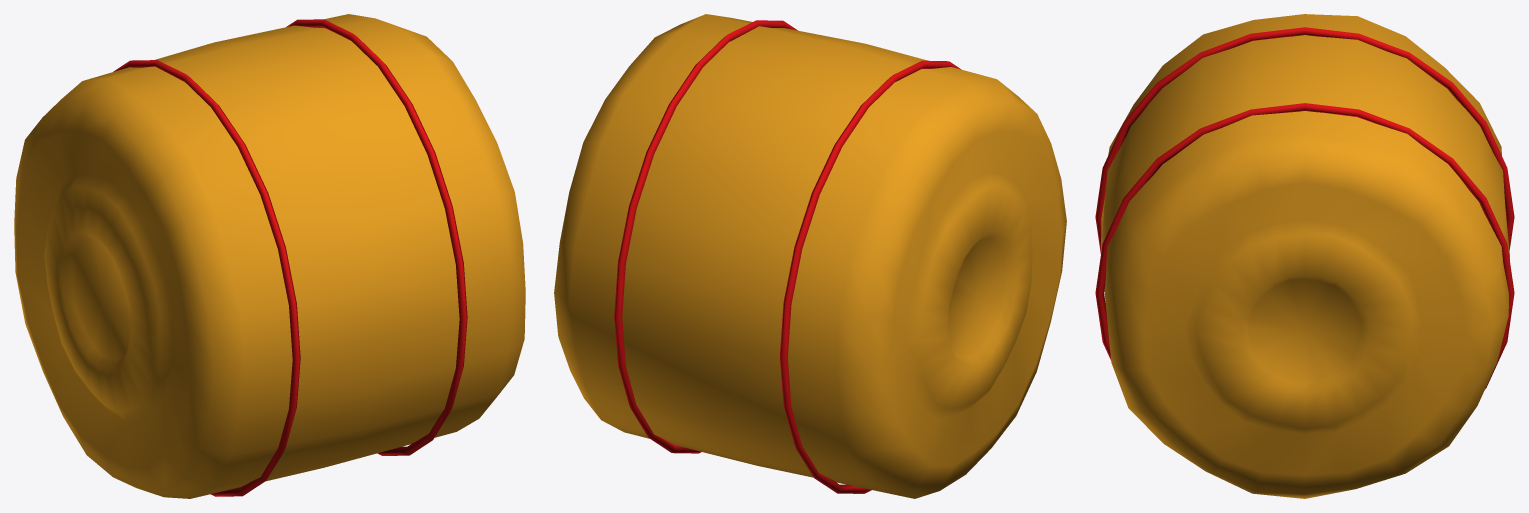
The model's file is HayBale.fbx.
3 views of the same model, side by side, from view 1: azimuth 30°, elevation 25°; view 2: azimuth 150°, elevation 25°; view 3: azimuth 270°, elevation 25° (orthographic). The views are drawn at different scales.
Parts seen in each view (by area): view 1: HayBale; view 2: HayBale; view 3: HayBale.
Boxes of the visible parts, left/top/right/bottom form: HayBale: left=14, top=14, right=525, bottom=498; HayBale: left=554, top=14, right=1066, bottom=498; HayBale: left=1095, top=14, right=1514, bottom=498.
Size of the model in its own units: 1.04 by 1.17 by 1.17.
